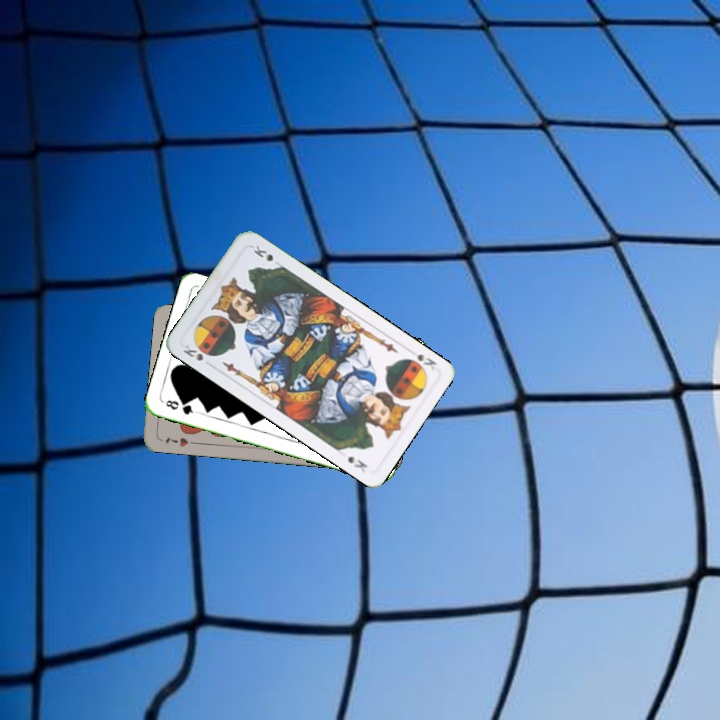G8: (161, 396, 199, 418)
H7: (162, 432, 191, 449)
SK: (404, 345, 440, 373), (179, 341, 206, 364)
